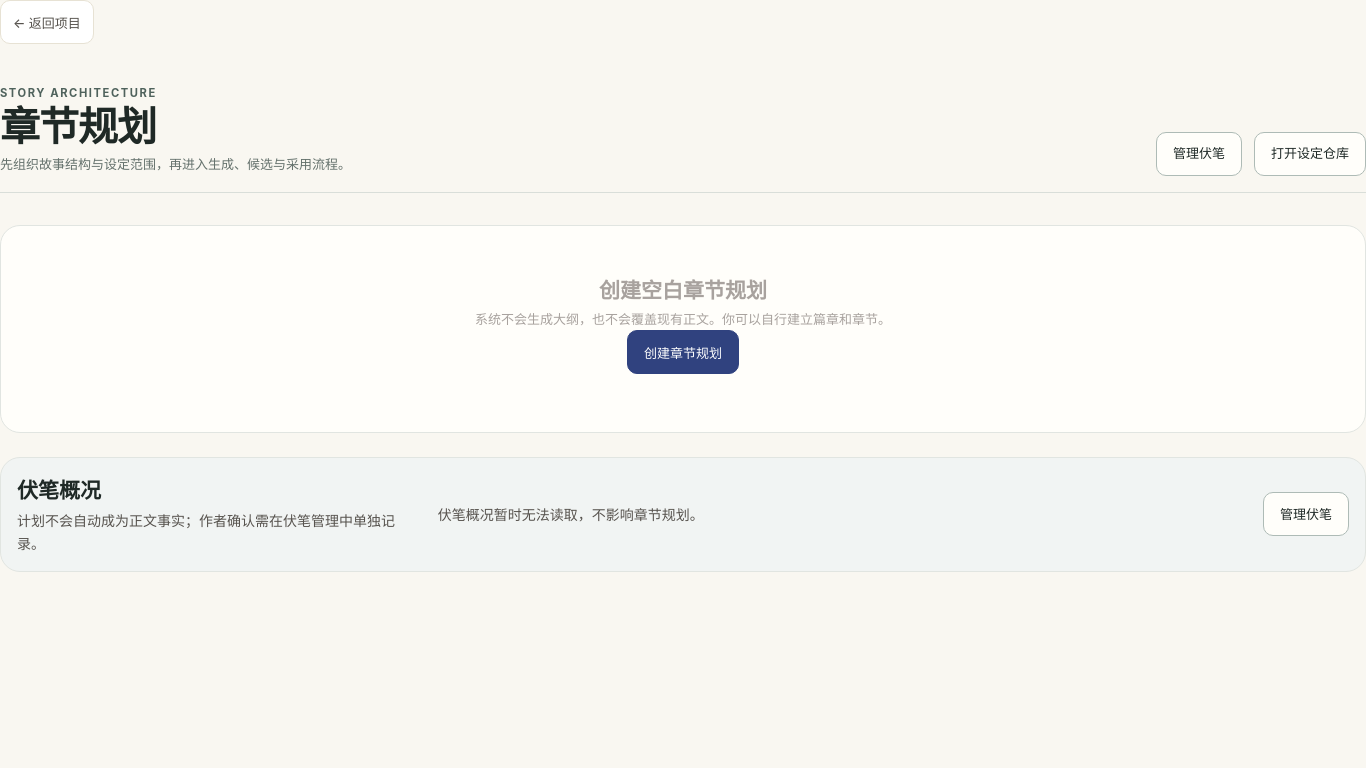
Test: ChapterPlanningPage › shows explicit initialization and never creates planning automatically
Check: the heading "创建空白章节规划" is shown, box [599,278,767,303]
Check: the number of elements named "章节规划详情" is 1, box [0,225,1365,433]
What coordinates should you click on to do the following:
click the button "创建章节规划"
I would click on:
 (683, 352)
Its box is [627,330,739,374].
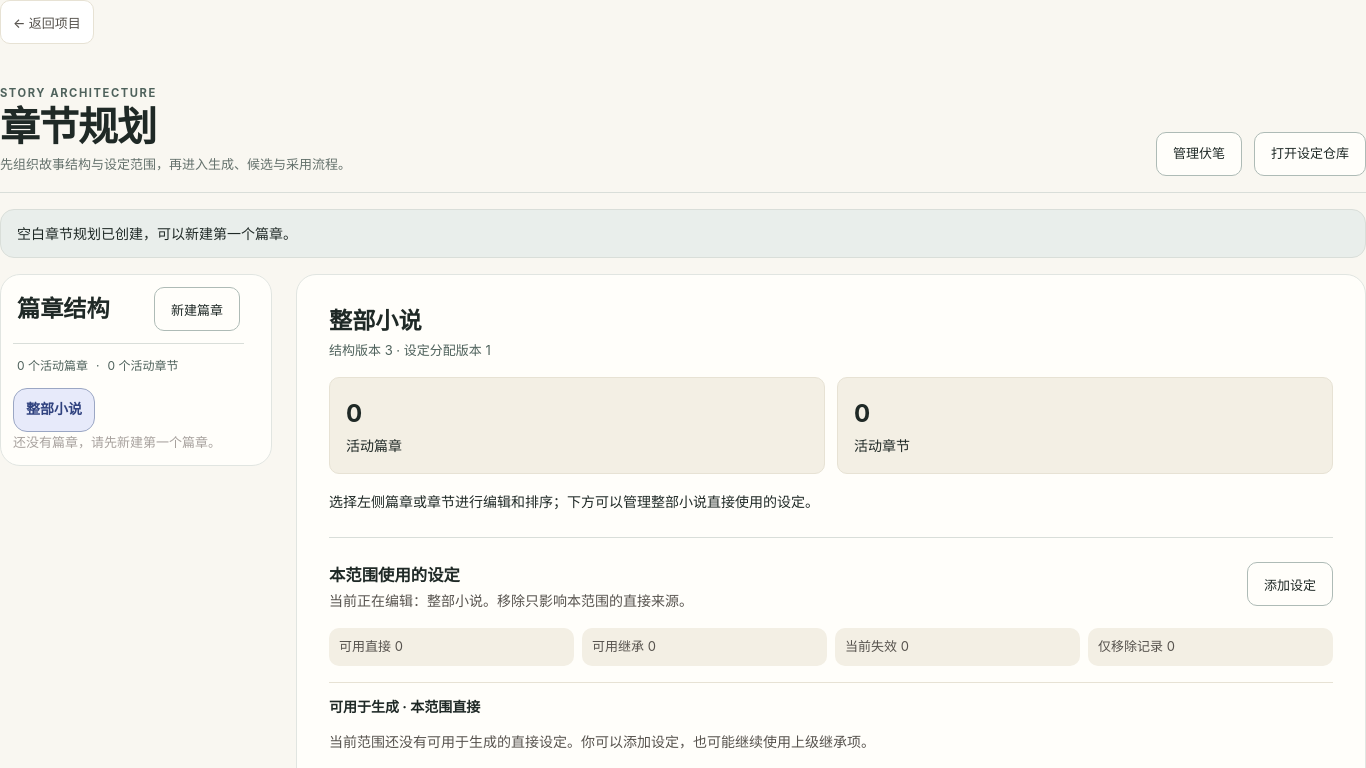
Check: the text "还没有篇章，请先新建第一个篇章。" is shown, box [13,432,244,453]
